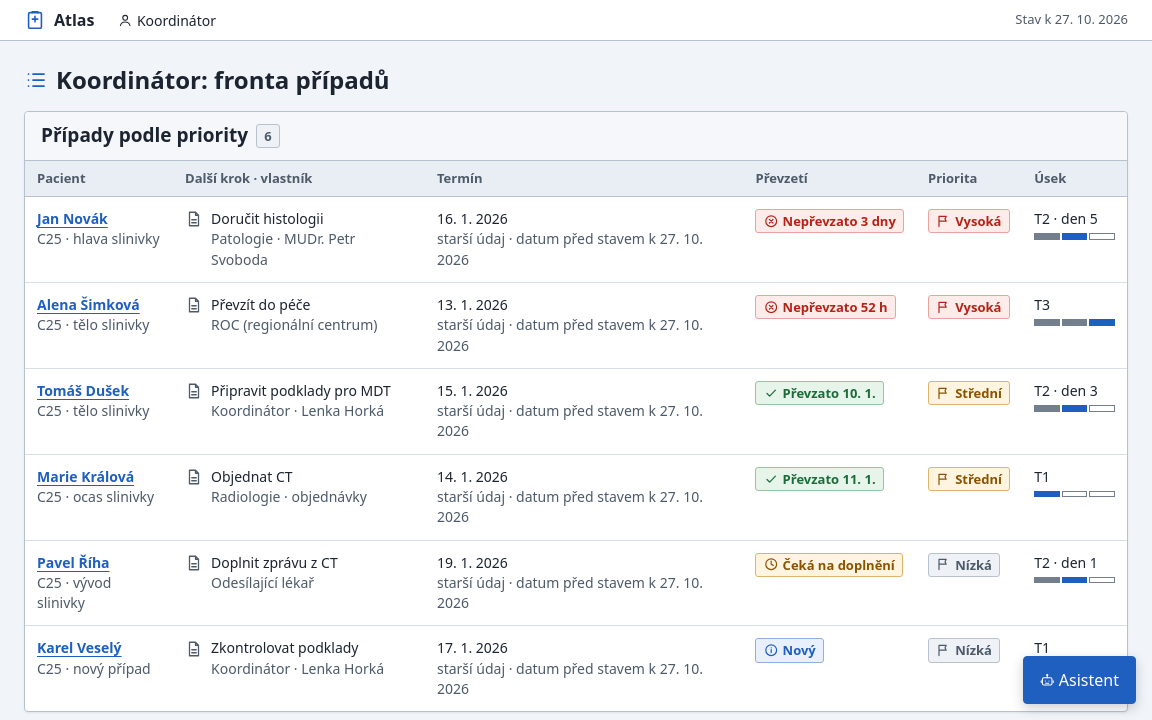
Test case: patient graphics and keyboard › a plain pointer click anywhere in a row opens that case page; one tab stop per row
Click the text "T2 · den 3": (1075,396) [1034, 381, 1115, 412]
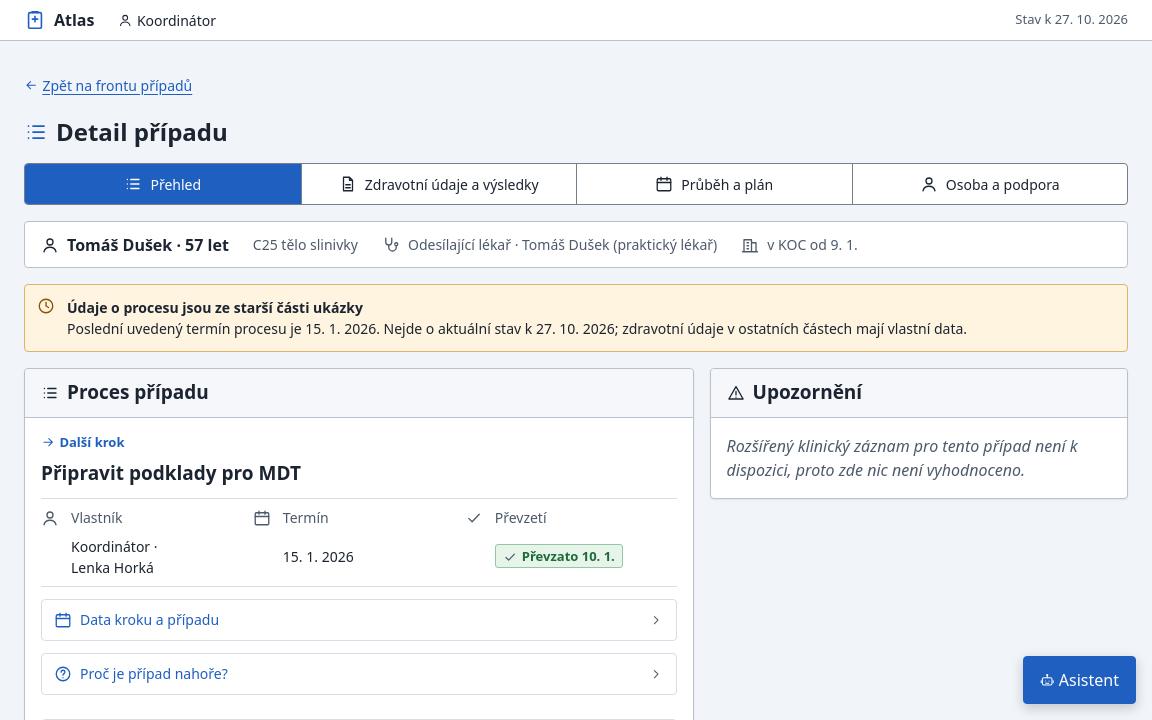
Result: the heading "Tomáš Dušek · 57 let" is shown at [41, 234, 229, 254]
